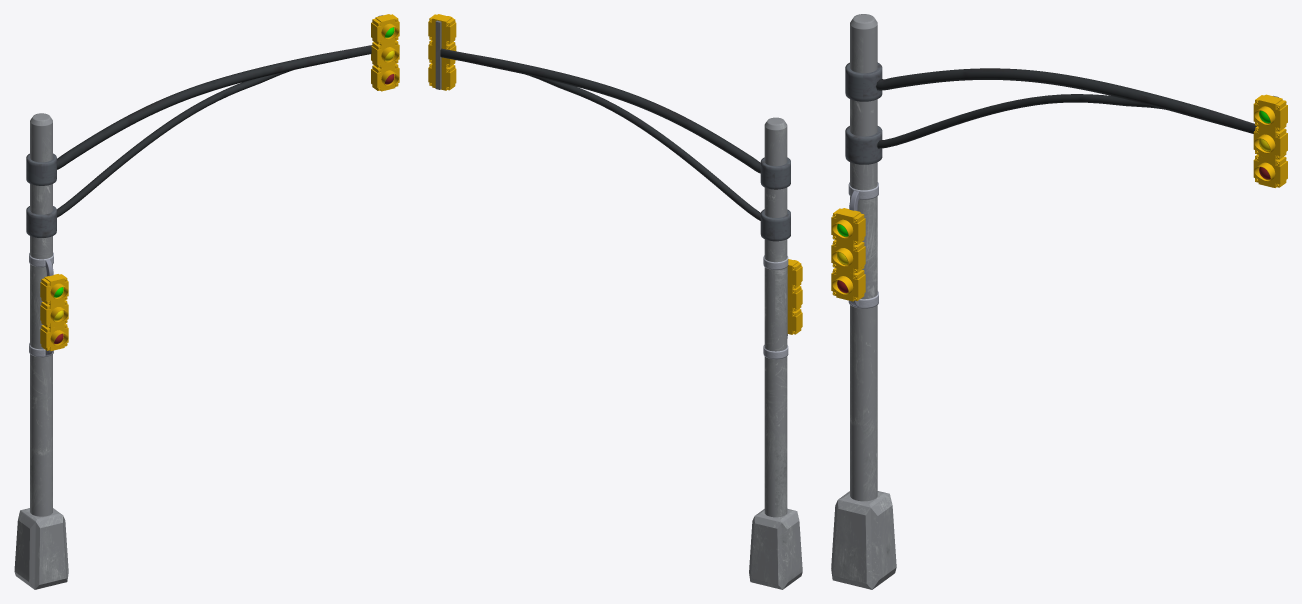
3 views of the same model, side by side, from view 1: azimuth 30°, elevation 25°; view 2: azimuth 150°, elevation 25°; view 3: azimuth 330°, elevation 25° (orthographic). The views are drawn at different scales.
Visible parts, largest first — view 1: pCylinder1, pCube1, pCube4, pCube5, pCylinder3, pCylinder2; view 2: pCylinder1, pCube1, pCube4, pCube5, pCylinder3, pCylinder2; view 3: pCylinder1, pCube1, pCube4, pCube5, pCylinder2, pCylinder3.
Boxes of the visible parts, x1,y1,x2,y2 form: pCylinder1: (30,113,52,516); pCube1: (14,508,68,589); pCube4: (57,45,372,169); pCube5: (57,70,293,217); pCylinder3: (26,153,56,185); pCylinder2: (26,206,56,237); pCylinder1: (764,117,787,517); pCube1: (749,508,802,589); pCube4: (440,48,760,173); pCube5: (526,74,760,220); pCylinder3: (760,157,790,189); pCylinder2: (760,209,790,241); pCylinder1: (850,14,877,501); pCube1: (831,491,896,589); pCube4: (876,68,1256,133); pCube5: (877,94,1164,148); pCylinder2: (845,126,882,164); pCylinder3: (845,62,882,101).
Size of the model in its own units: 177 by 219 by 26.02.
Materials: 18 (18 with a texture image).
